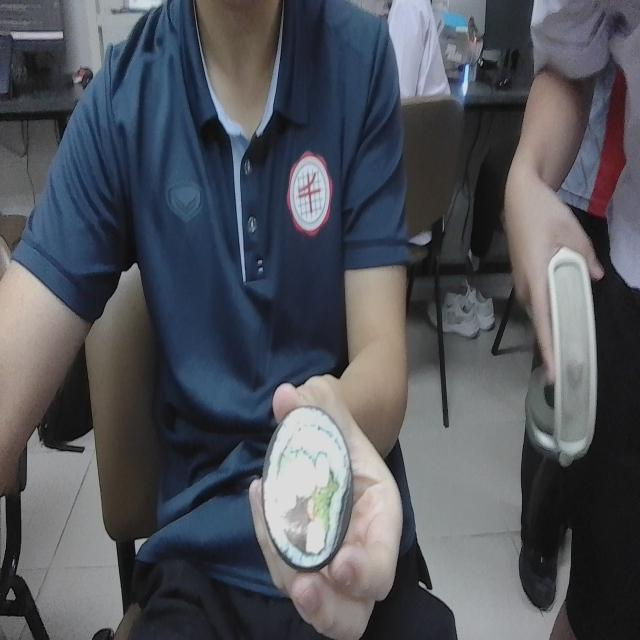sushi: (256, 394, 366, 579)
